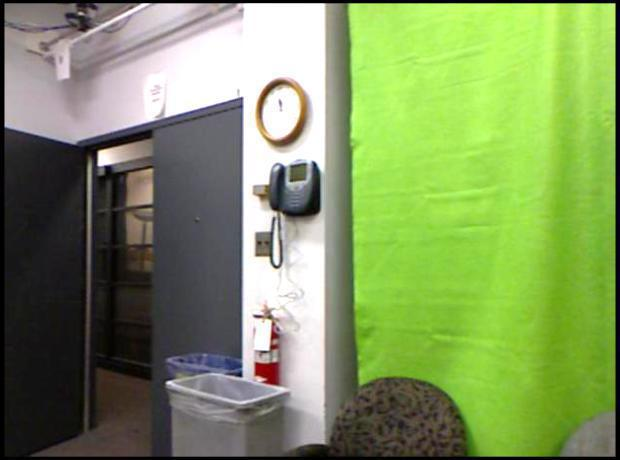Bote de Basura: (164, 370, 289, 451), (160, 350, 239, 452)
